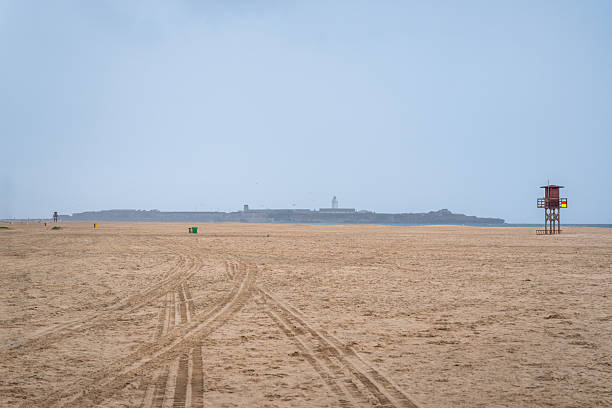vehicle_track: (45, 265, 255, 406), (0, 254, 200, 357), (257, 288, 416, 407)
